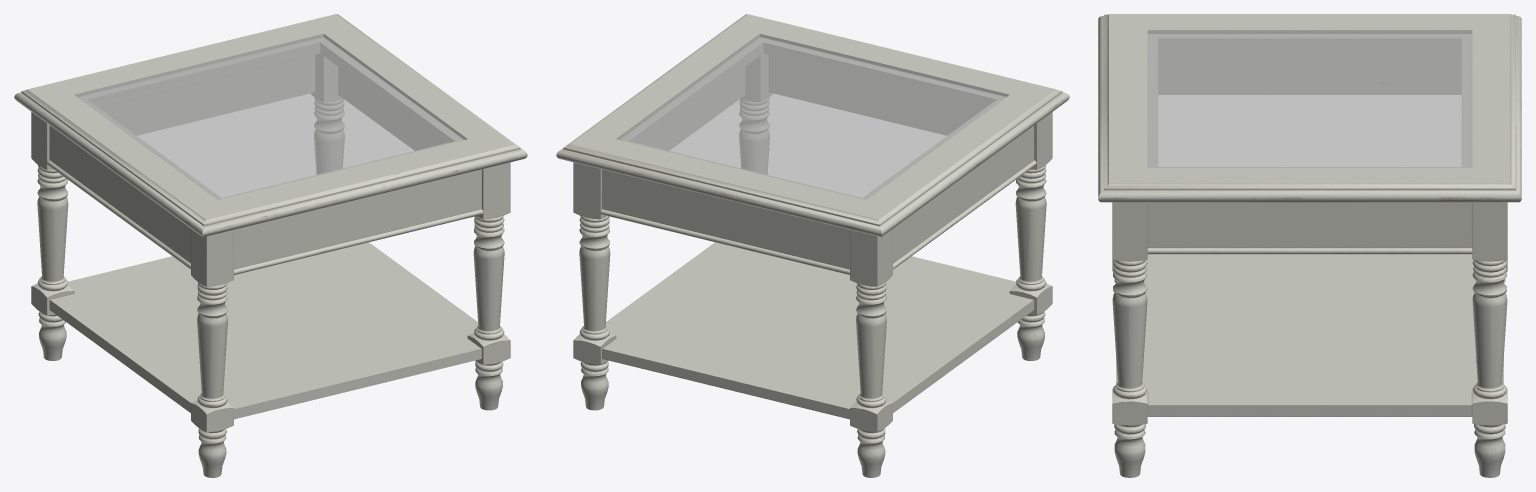
File: example138.glb
3 views of the same model, side by side, from view 1: azimuth 30°, elevation 25°; view 2: azimuth 150°, elevation 25°; view 3: azimuth 270°, elevation 25° (orthographic). The views are drawn at different scales.
Parts seen in each view (by area): view 1: Buffer Layer (×2); view 2: Buffer Layer (×2); view 3: Buffer Layer (×2).
Boxes of the visible parts, x1,y1,x2,y2 form: Buffer Layer (×2): (14, 14, 527, 477); Buffer Layer (×2): (556, 14, 1069, 477); Buffer Layer (×2): (1098, 14, 1521, 477).
Bounding box in the file's own units: 0.5 × 0.3892 × 0.5.
2 materials, 1 textured.
